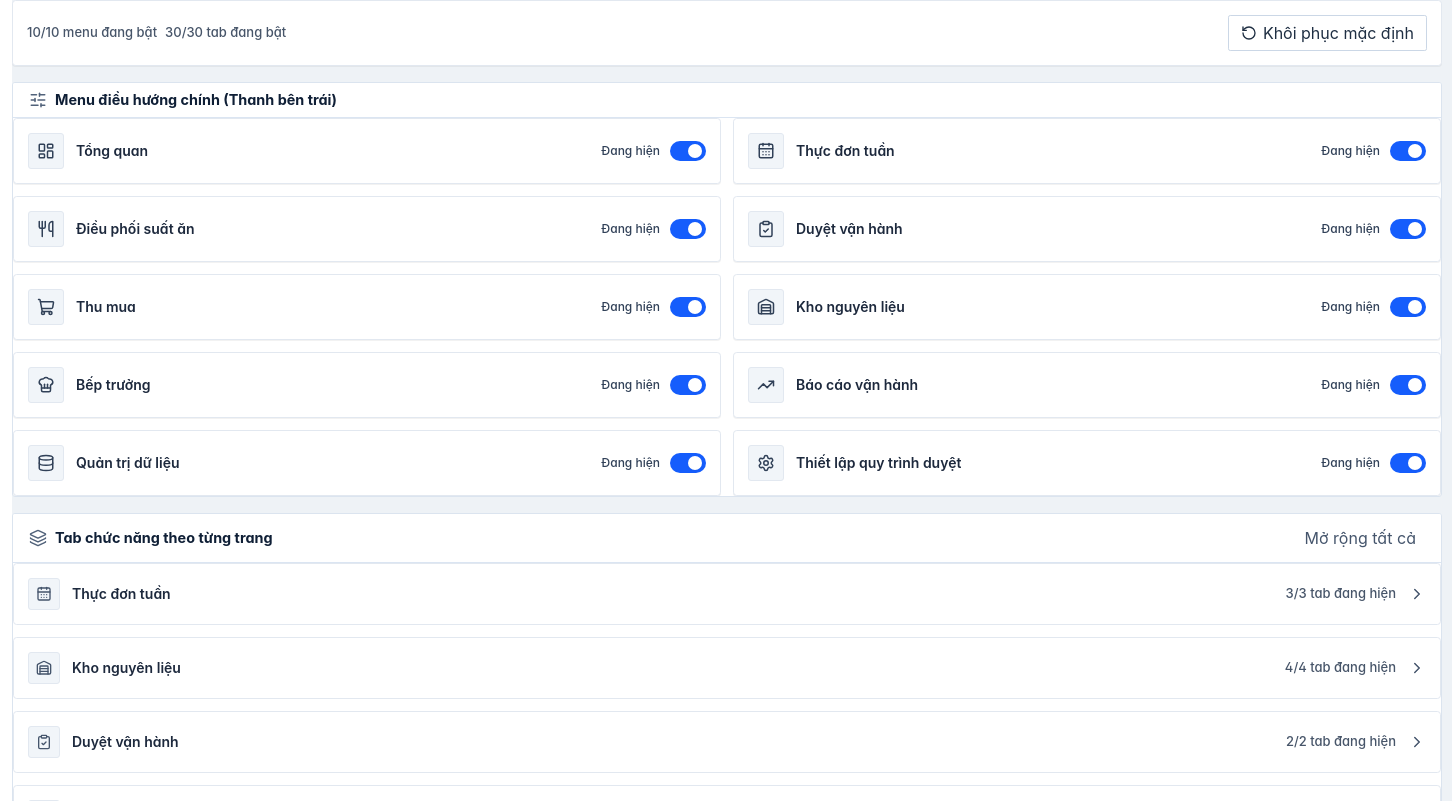
Test: AdvancedDisplaySettings Component › toggles a navigation item and persists to localStorage
Click the switch named "Báo cáo vận hành, đang hiện" at (766, 385), box [733,352,1441,418]
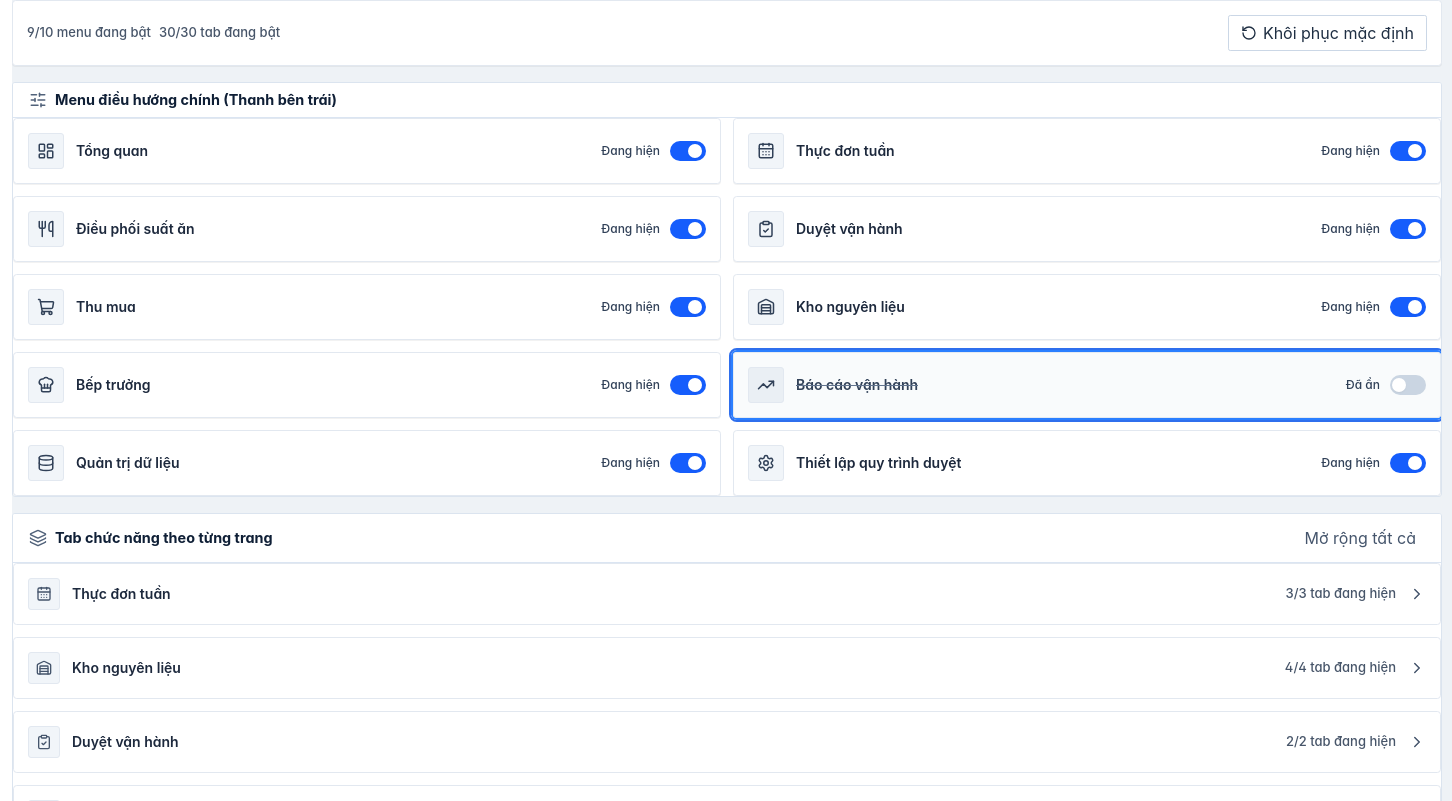
Expected: the text "9/10 menu đang bật" is shown, [27,24,151,42]
Click the switch named "Báo cáo vận hành, đang ẩn" at (766, 385), box [733,352,1441,418]
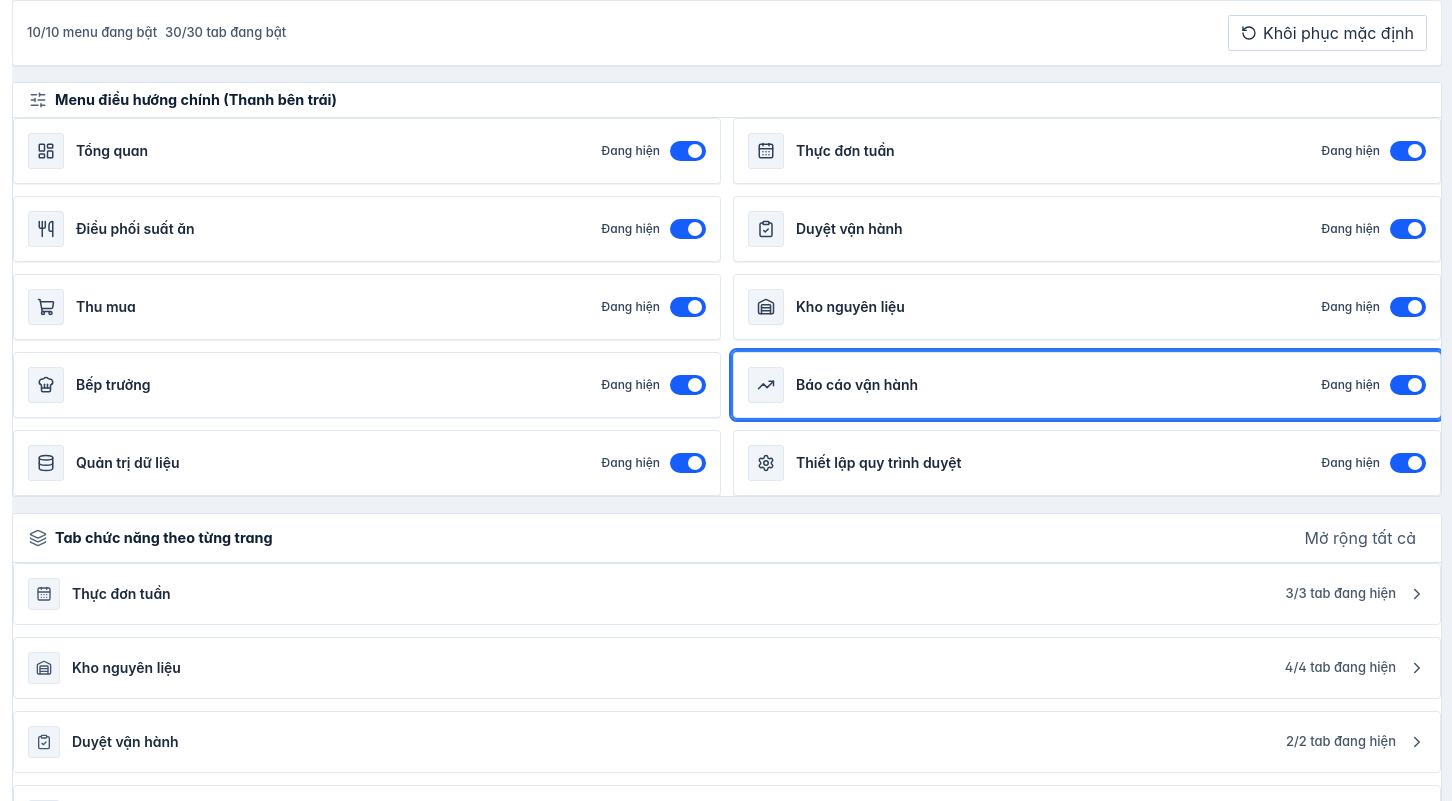
Expected: the text "10/10 menu đang bật" is shown, [27,24,157,42]
